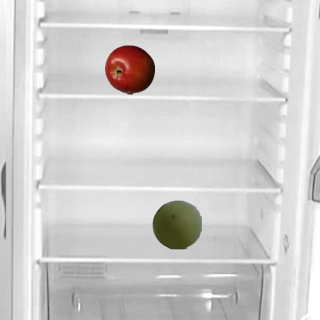Apple Braeburn: (104, 44, 154, 94)
Grape White 4: (151, 199, 201, 249)
